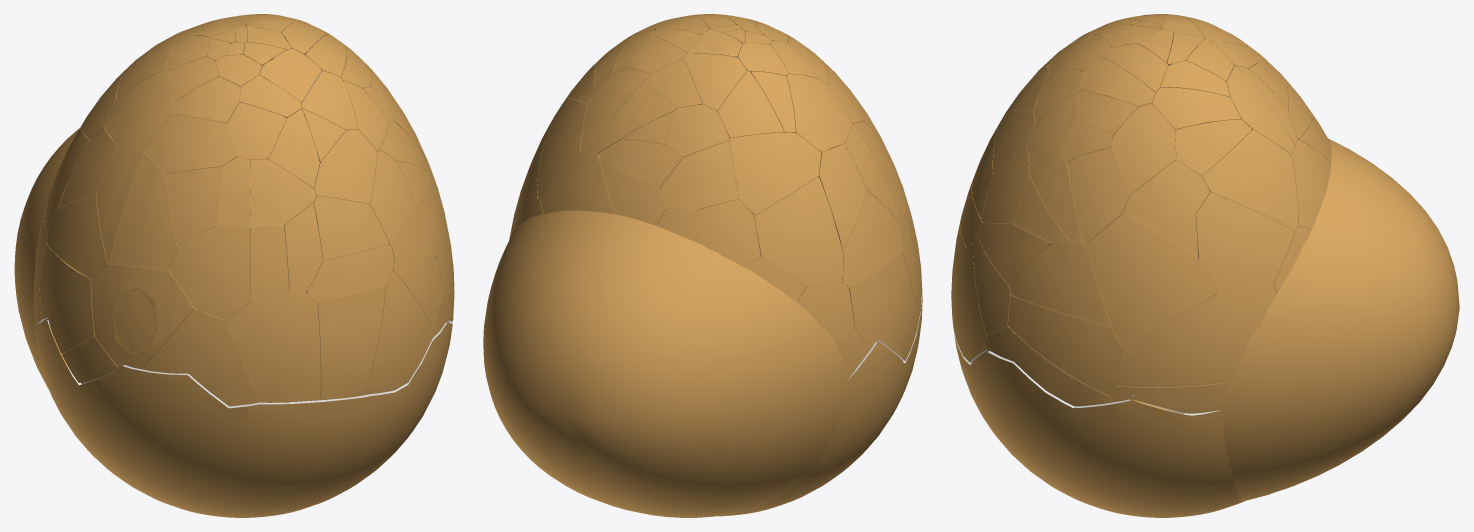
Rendered from Egg.fbx.
3 renders of one model, left to right at view 1: azimuth 30°, elevation 25°; view 2: azimuth 150°, elevation 25°; view 3: azimuth 270°, elevation 25°, orthographic.
Parts seen in each view (by area): view 1: egg_bottom, egg_top_cell.043, egg_top_cell.025, egg_top_cell.065, egg_top_cell.075, egg_top_cell.036, egg_top_cell.038, egg_top_cell.008, egg.001, egg_top_cell.032, egg_top_cell.030, egg_top_cell.023 (+44 smaller); view 2: egg.001, egg_bottom, egg_top_cell.061, egg_top_cell.086, egg_top_cell.032, egg_top_cell.077, egg_top_cell.039, egg_top_cell.023, egg_top_cell.024, egg_top_cell.009, egg_top_cell.033, egg_top_cell.066 (+30 smaller); view 3: egg.001, egg_bottom, egg_top_cell.022, egg_top_cell.011, egg_top_cell.006, egg_top_cell.016, egg_top_cell.066, egg_top_cell.048, egg_top_cell.078, egg_top_cell.007, egg_top_cell.097, egg_top_cell.046 (+35 smaller).
Part boxes in pixels (left/top/right/bottom): egg_bottom: left=35, top=320, right=452, bottom=517; egg_top_cell.043: left=225, top=290, right=320, bottom=401; egg_top_cell.025: left=91, top=264, right=194, bottom=368; egg_top_cell.065: left=168, top=225, right=250, bottom=319; egg_top_cell.075: left=317, top=286, right=385, bottom=399; egg_top_cell.036: left=144, top=308, right=261, bottom=406; egg_top_cell.038: left=110, top=152, right=177, bottom=268; egg_top_cell.008: left=363, top=271, right=431, bottom=394; egg.001: left=14, top=89, right=447, bottom=406; egg_top_cell.032: left=39, top=244, right=94, bottom=353; egg_top_cell.030: left=144, top=114, right=237, bottom=174; egg_top_cell.023: left=104, top=70, right=173, bottom=150; egg.001: left=483, top=116, right=902, bottom=517; egg_bottom: left=717, top=287, right=922, bottom=516; egg_top_cell.061: left=754, top=176, right=842, bottom=286; egg_top_cell.086: left=729, top=132, right=821, bottom=214; egg_top_cell.032: left=848, top=253, right=913, bottom=352; egg_top_cell.077: left=660, top=141, right=738, bottom=209; egg_top_cell.039: left=842, top=191, right=901, bottom=287; egg_top_cell.023: left=786, top=74, right=852, bottom=152; egg_top_cell.024: left=697, top=199, right=760, bottom=266; egg_top_cell.009: left=540, top=152, right=614, bottom=213; egg_top_cell.033: left=818, top=144, right=867, bottom=249; egg_top_cell.066: left=537, top=98, right=587, bottom=198; egg.001: left=971, top=130, right=1459, bottom=501; egg_bottom: left=954, top=333, right=1244, bottom=517; egg_top_cell.022: left=1086, top=214, right=1216, bottom=345; egg_top_cell.011: left=1116, top=284, right=1276, bottom=387; egg_top_cell.006: left=1195, top=192, right=1294, bottom=292; egg_top_cell.016: left=1008, top=295, right=1121, bottom=396; egg_top_cell.066: left=1201, top=129, right=1298, bottom=230; egg_top_cell.048: left=1010, top=240, right=1110, bottom=325; egg_top_cell.078: left=1110, top=103, right=1175, bottom=196; egg_top_cell.007: left=1067, top=148, right=1128, bottom=243; egg_top_cell.097: left=983, top=326, right=1110, bottom=405; egg_top_cell.046: left=1122, top=160, right=1209, bottom=216.
Bounding box in the file's own units: 1.97 × 2.43 × 2.38.
